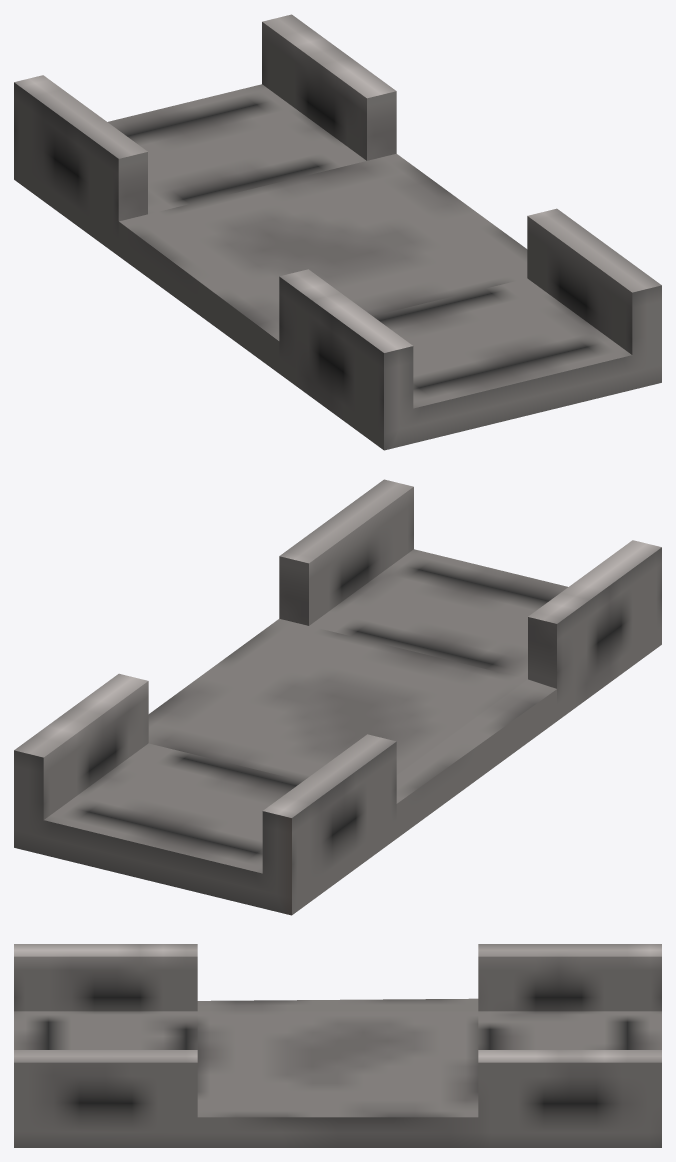
File: obj_cableRail_cross.fbx
3 views of the same model, one above another, from view 1: azimuth 30°, elevation 25°; view 2: azimuth 150°, elevation 25°; view 3: azimuth 270°, elevation 25° (orthographic). The views are drawn at different scales.
Visible parts, largest first — view 1: obj_cableRail_cross; view 2: obj_cableRail_cross; view 3: obj_cableRail_cross.
Boxes of the visible parts, left/top/right/bottom form: obj_cableRail_cross: left=14, top=14, right=661, bottom=450; obj_cableRail_cross: left=14, top=479, right=661, bottom=915; obj_cableRail_cross: left=14, top=944, right=661, bottom=1147.
Size of the model in its own units: 13 by 4.35 by 30.
